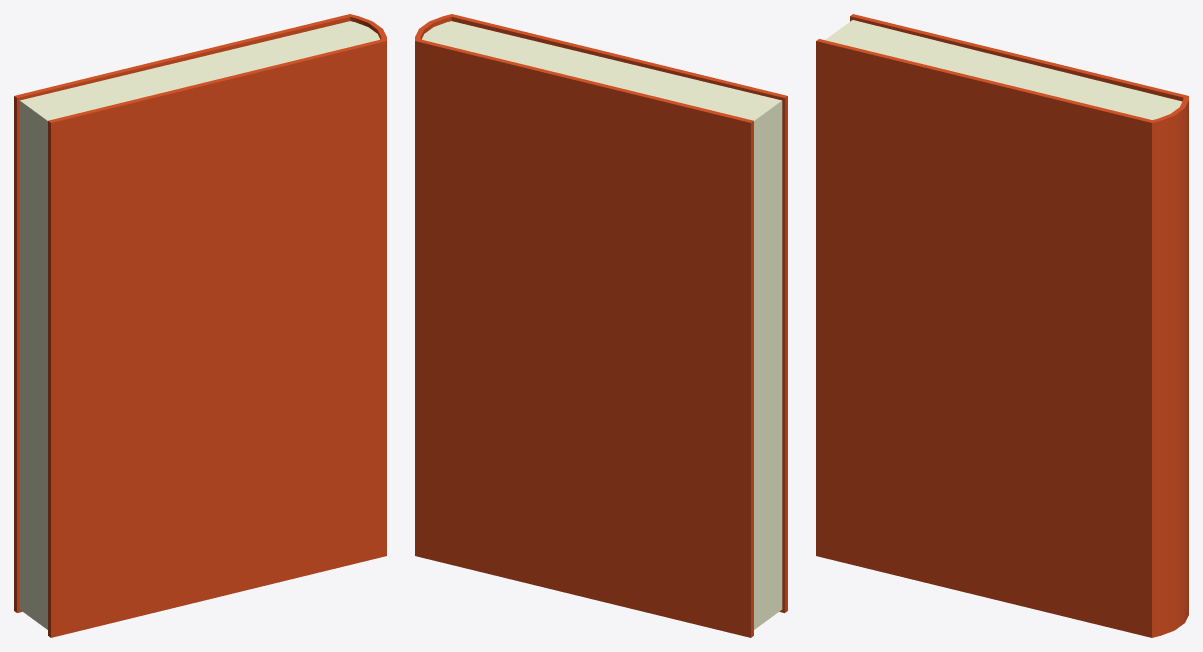
Rendered from newbook4.fbx.
3 renders of one model, left to right at view 1: azimuth 30°, elevation 25°; view 2: azimuth 150°, elevation 25°; view 3: azimuth 330°, elevation 25°, orthographic.
Parts seen in each view (by area): view 1: Book4; view 2: Book4; view 3: Book4.
Part boxes in pixels (x1,y1,x2,y2): Book4: [14, 14, 386, 637]; Book4: [415, 14, 787, 637]; Book4: [816, 14, 1188, 637].
Bounding box in the file's own units: 16.28 × 23.2 × 3.02.
